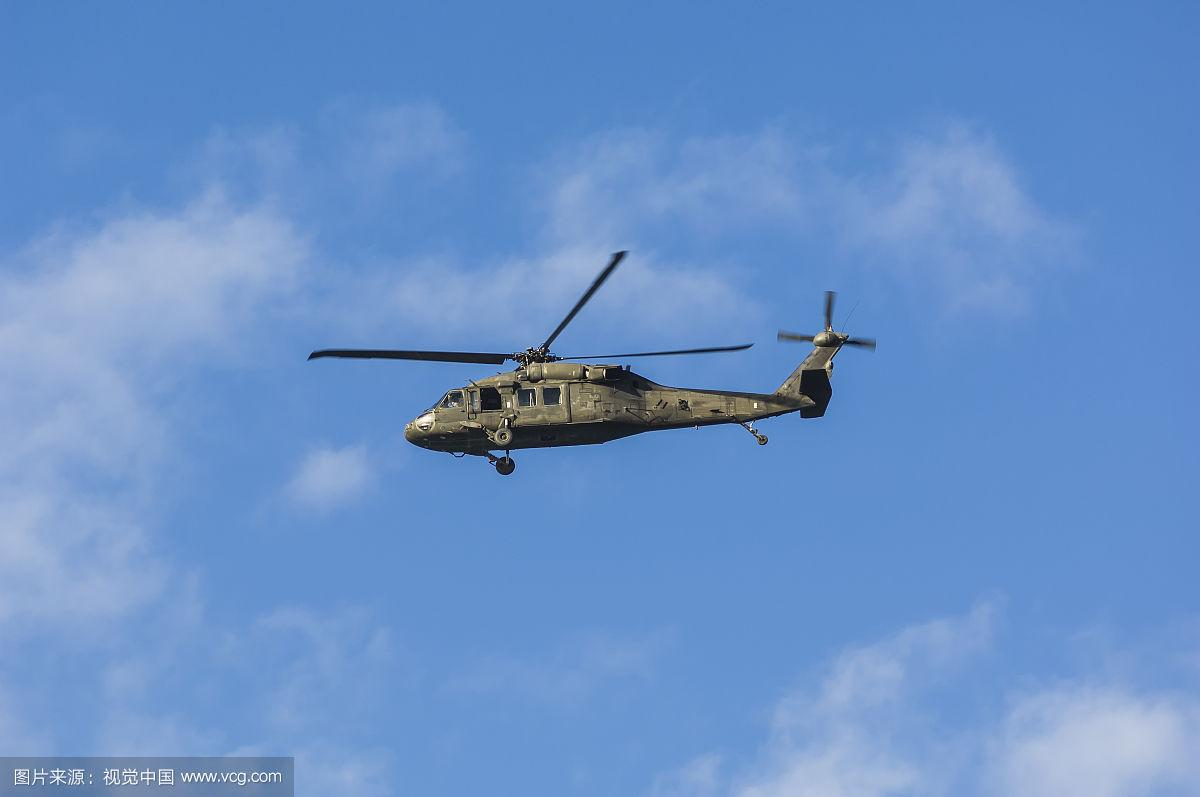airplane: (295, 248, 902, 477)
